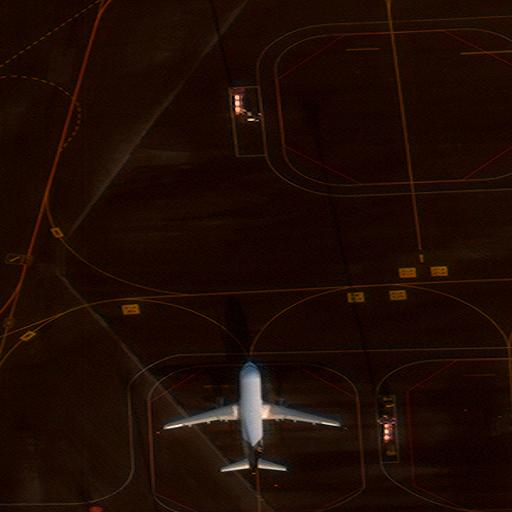Medium Civil Transport: (164, 361, 339, 473)
